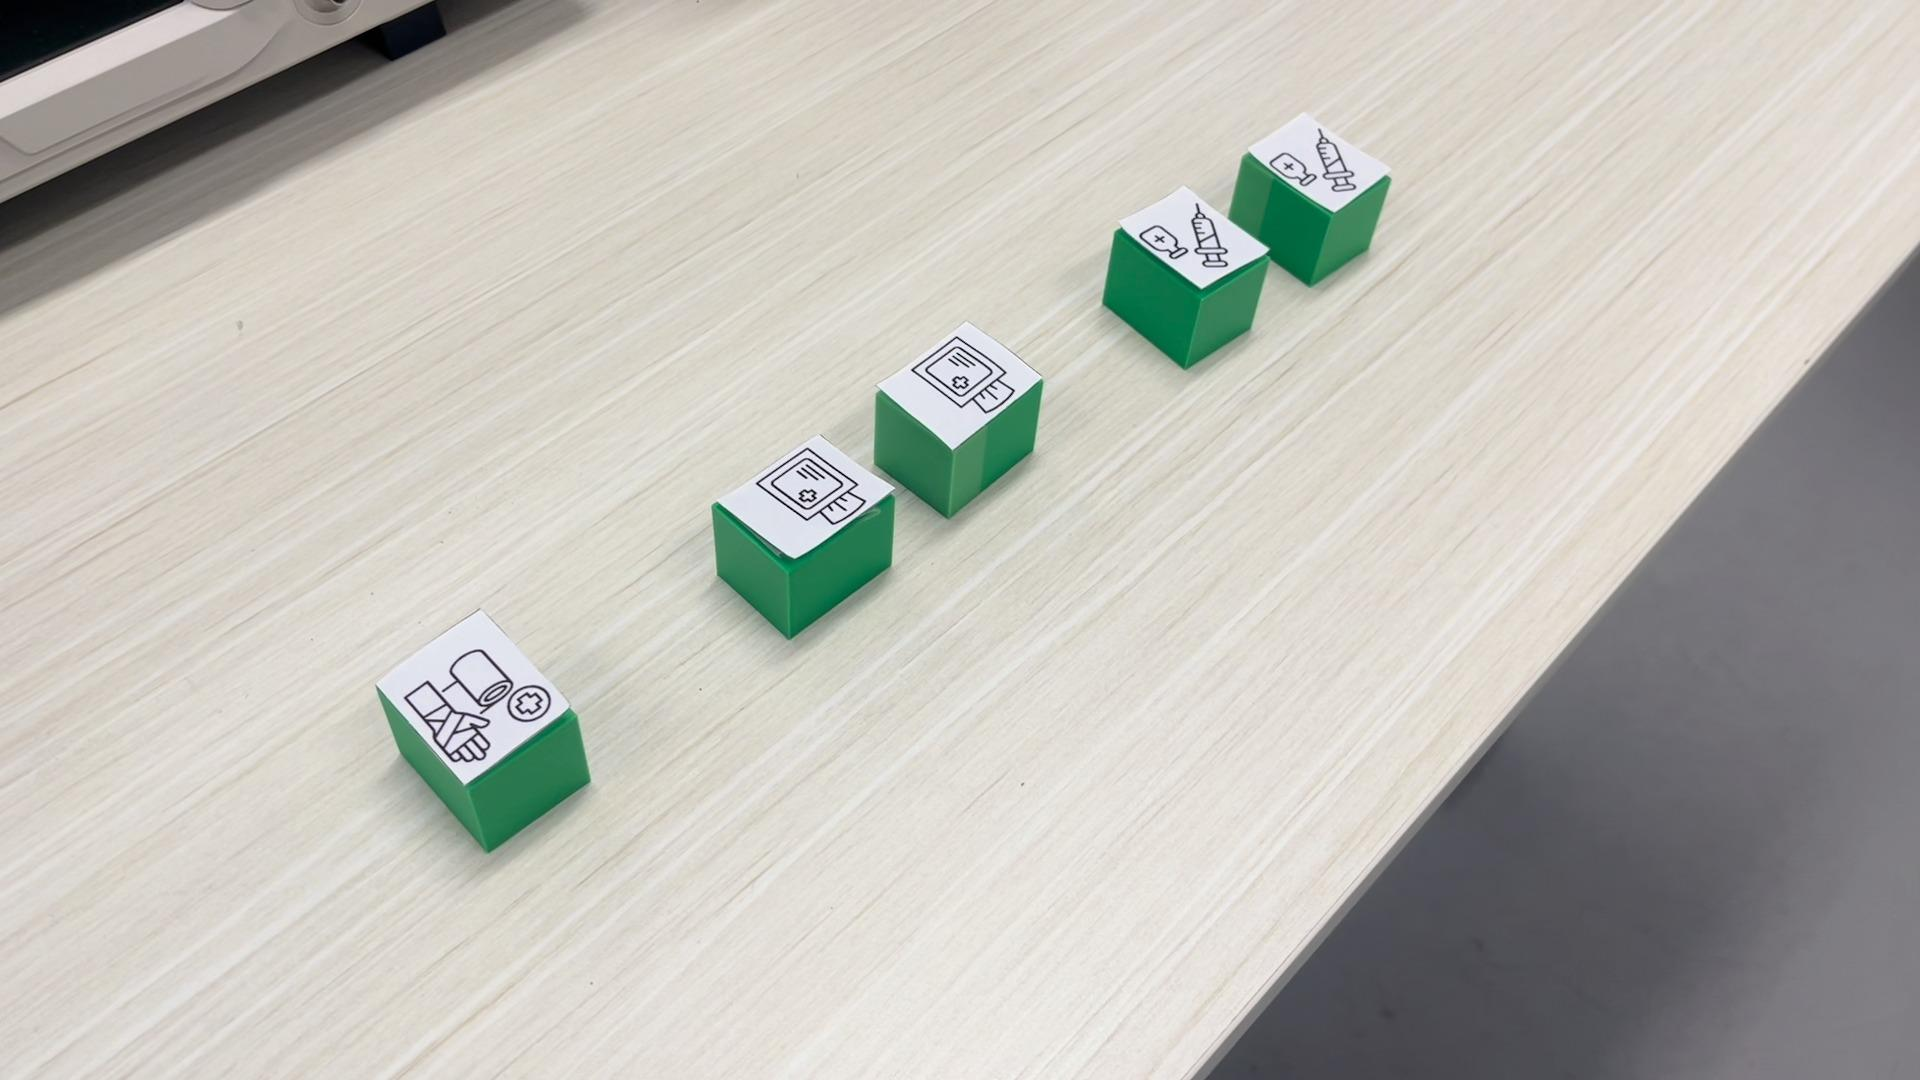Bandages: (371, 608, 592, 852)
Gauze: (709, 434, 894, 638), (872, 319, 1047, 517)
antiseptic cream: (1193, 109, 1396, 291), (1101, 185, 1273, 368)
